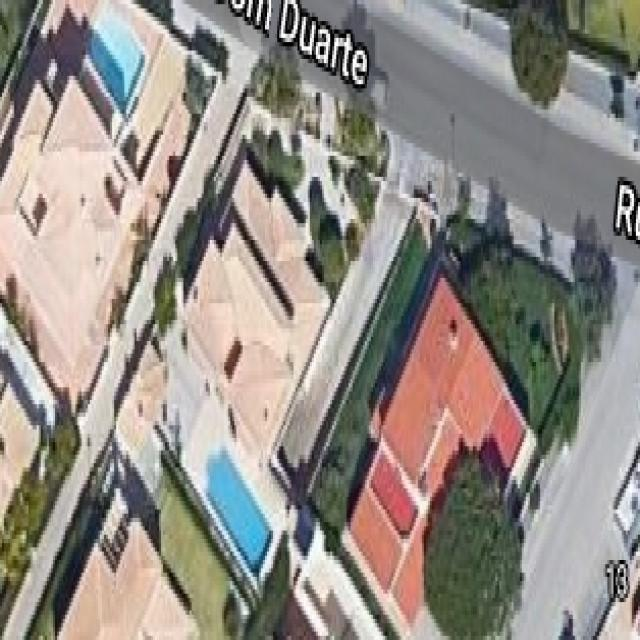pool: (161, 418, 314, 600)
